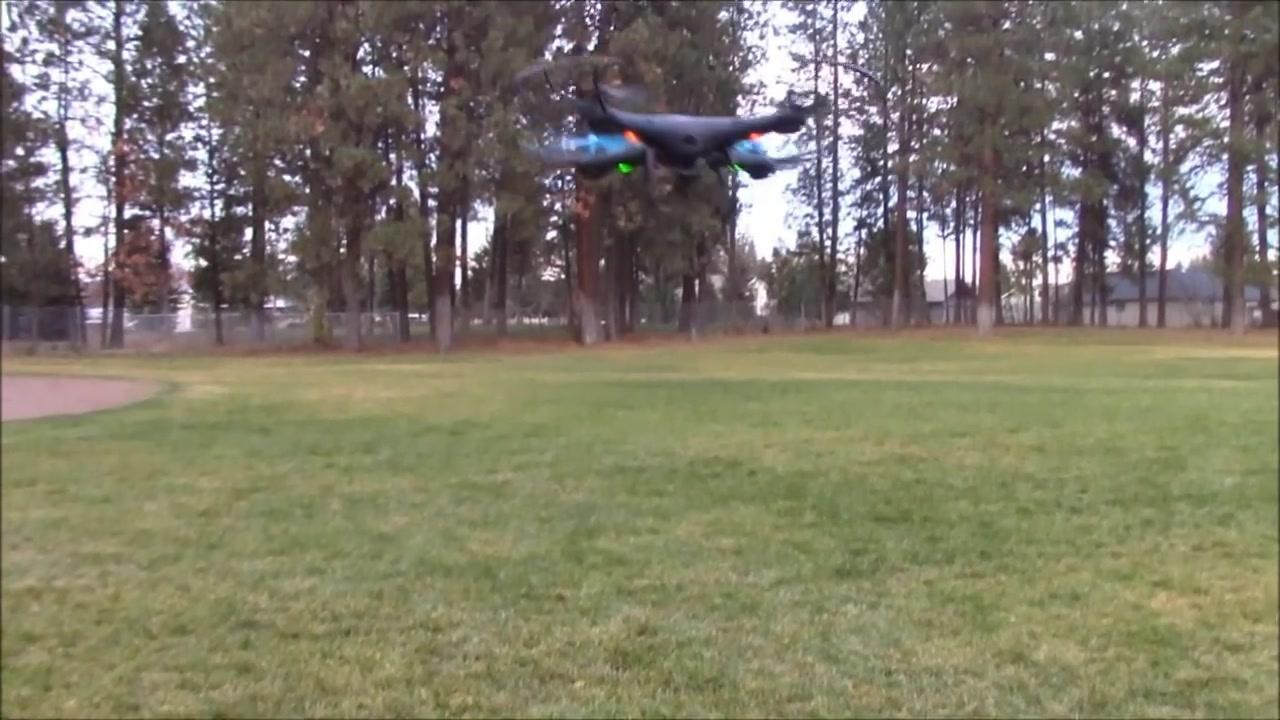UAV: (521, 60, 881, 190)
